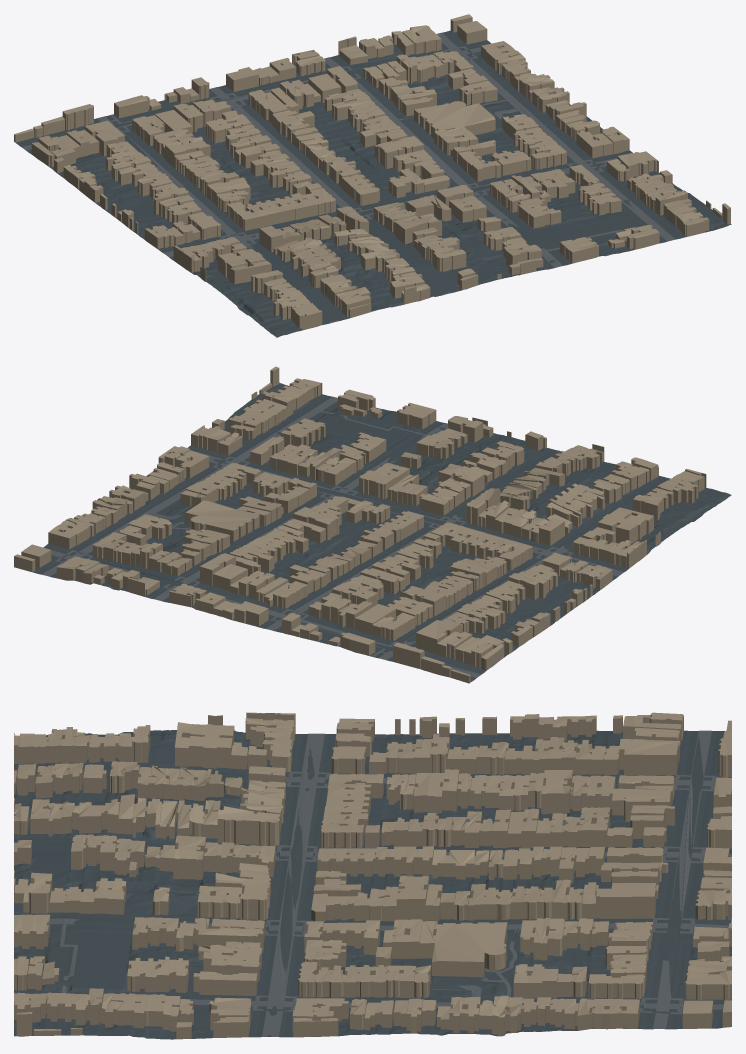
File: epsg26910-1421-10890.lod0.glb
The picture shows the model from 3 angles, top to bottom: view 1: azimuth 30°, elevation 25°; view 2: azimuth 150°, elevation 25°; view 3: azimuth 270°, elevation 25°; orthographic projection. The views are drawn at different scales.
Parts seen in each view (by area): view 1: epsg26910-1421-10890-lod0; view 2: epsg26910-1421-10890-lod0; view 3: epsg26910-1421-10890-lod0.
Part boxes in pixels (x1,y1,x2,y2): epsg26910-1421-10890-lod0: (14, 14, 731, 337); epsg26910-1421-10890-lod0: (14, 366, 731, 683); epsg26910-1421-10890-lod0: (14, 712, 731, 1039).
Bounding box in the file's own units: 384 × 22.52 × 384.
